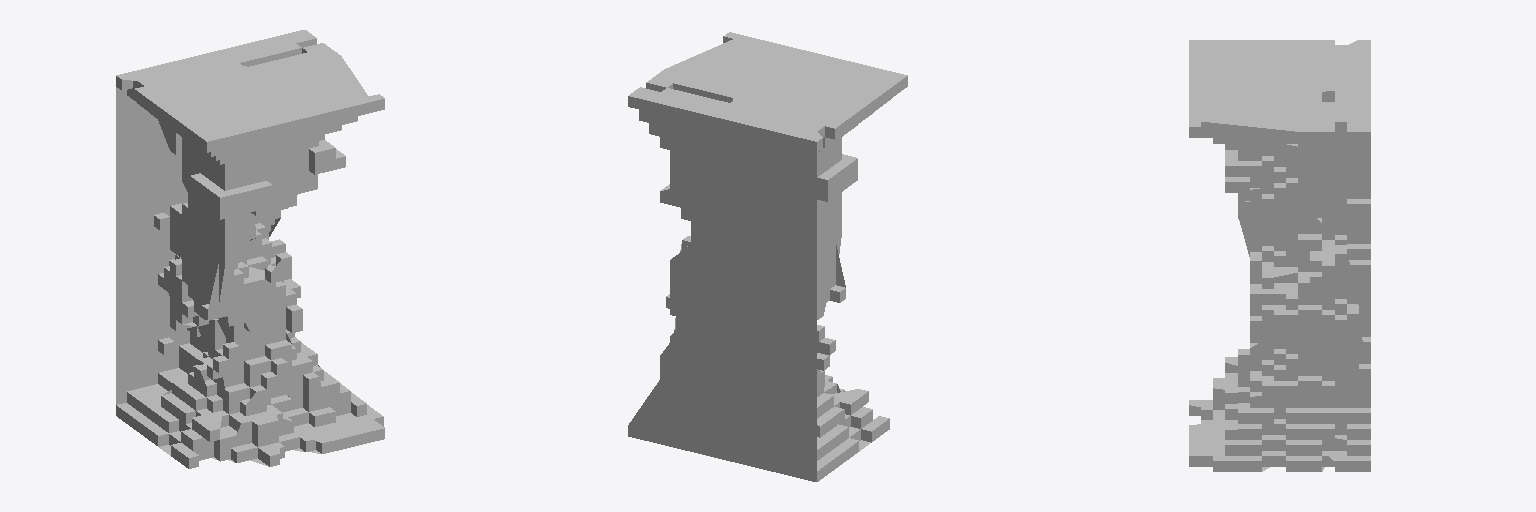
Rendered from Pillar_Ext_Smooth_Broken.obj.
The picture shows the model from 3 angles: view 1: azimuth 30°, elevation 25°; view 2: azimuth 150°, elevation 25°; view 3: azimuth 270°, elevation 25°; orthographic projection.
Visible parts, largest first — view 1: Pillar_Ext_Smooth_Broken_Pillar_Ext_Smooth_Broken.001; view 2: Pillar_Ext_Smooth_Broken_Pillar_Ext_Smooth_Broken.001; view 3: Pillar_Ext_Smooth_Broken_Pillar_Ext_Smooth_Broken.001.
Boxes of the visible parts, x1,y1,x2,y2 form: Pillar_Ext_Smooth_Broken_Pillar_Ext_Smooth_Broken.001: [116, 30, 384, 468]; Pillar_Ext_Smooth_Broken_Pillar_Ext_Smooth_Broken.001: [628, 32, 907, 481]; Pillar_Ext_Smooth_Broken_Pillar_Ext_Smooth_Broken.001: [1189, 40, 1370, 471].
Bounding box in the file's own units: 1.8 × 3.1 × 1.5.